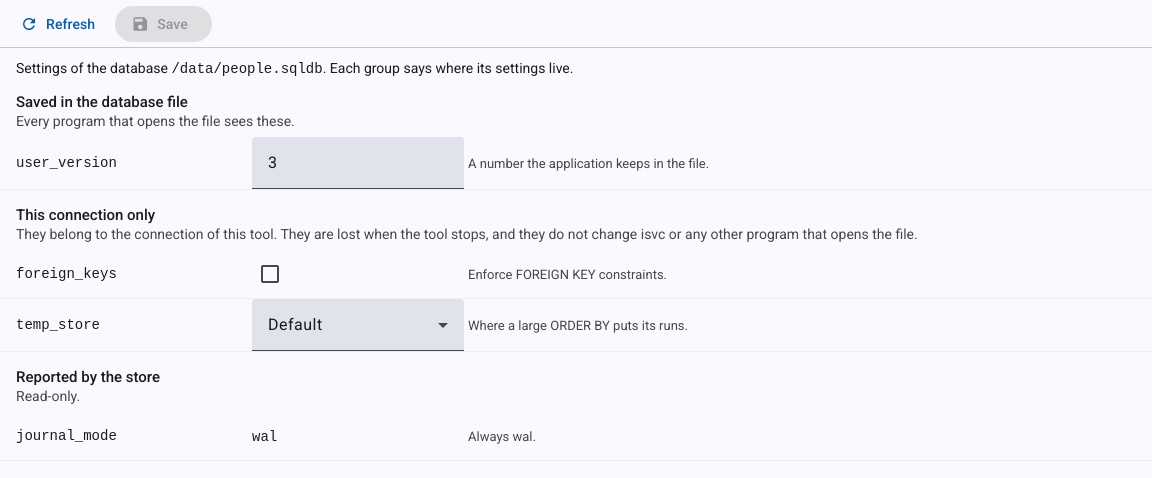
Test: PragmasComponent › keeps Save off until a value is changed
This screenshot has width=1152, height=478.
Expected: the button with class "save" is disabled, 115,6 -> 212,42
Click the checkbox at (270, 274), box 261,265 -> 279,283
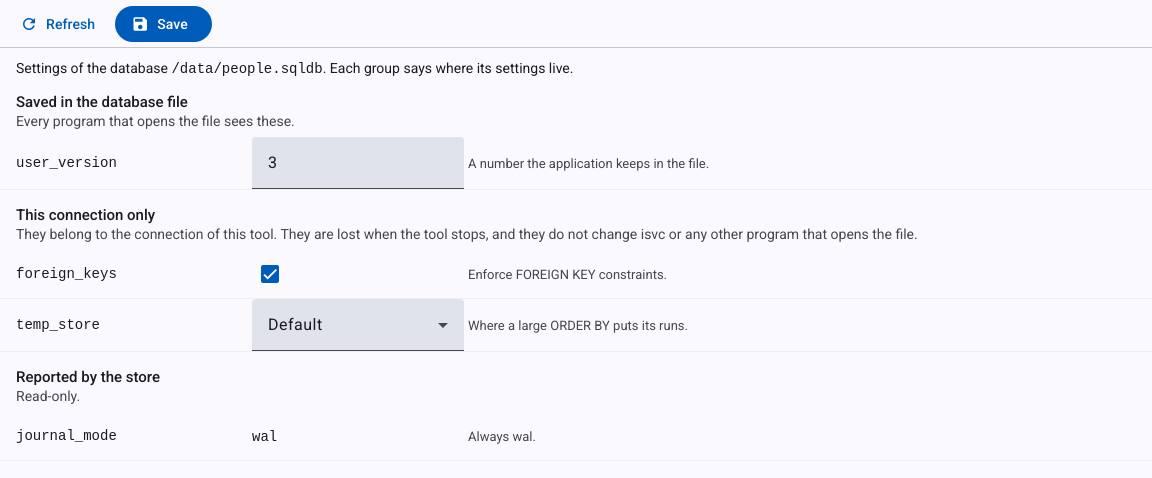
Expected: the button with class "save" is enabled, 115,6 -> 212,42
